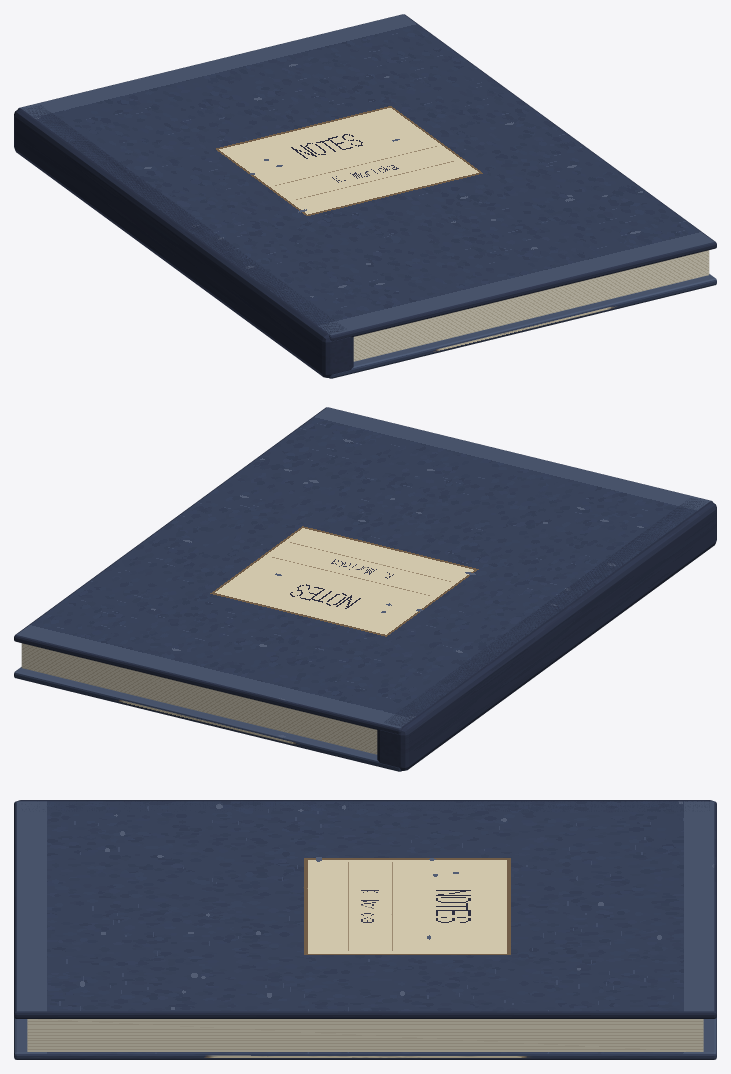
Rendered from notebook_own.glb.
The picture shows the model from 3 angles, top to bottom: view 1: azimuth 30°, elevation 25°; view 2: azimuth 150°, elevation 25°; view 3: azimuth 270°, elevation 25°; orthographic projection. The views are drawn at different scales.
Visible parts, largest first — view 1: box; view 2: box; view 3: box.
Part boxes in pixels (box(x1,y1,x2,y2)): box: box(14, 14, 716, 378); box: box(14, 407, 716, 771); box: box(14, 800, 716, 1059).
Bounding box in the file's own units: 0.152 × 0.016 × 0.21.
Materials: 3 (3 with a texture image).
